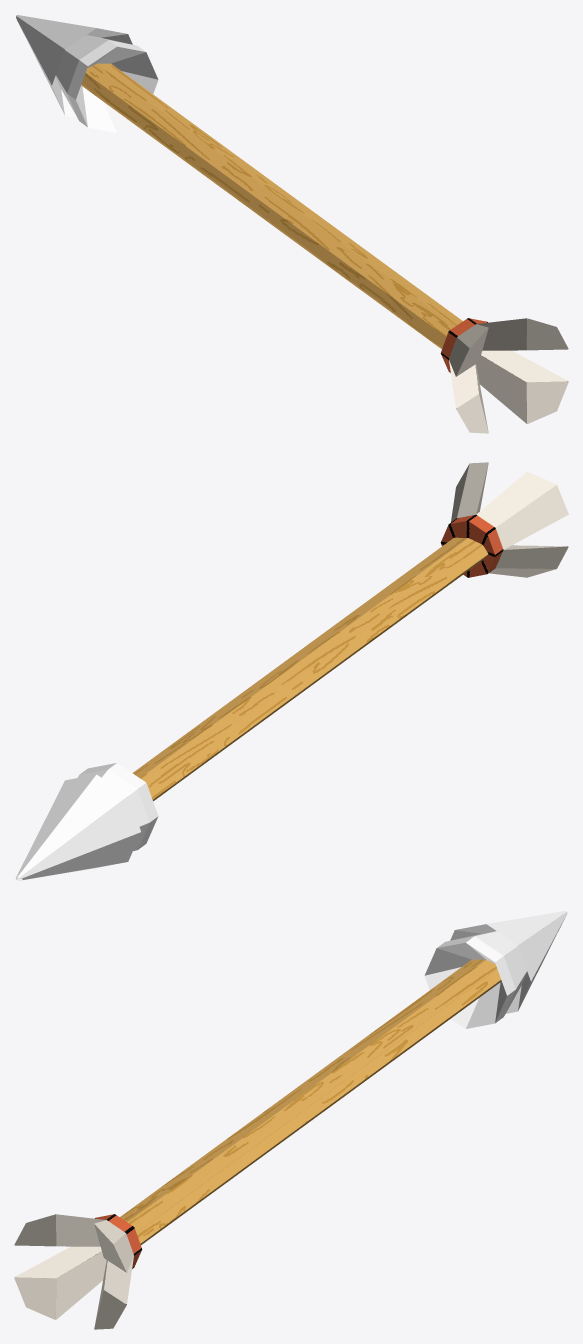
The model's file is arrow.fbx.
3 renders of one model, top to bottom at view 1: azimuth 30°, elevation 25°; view 2: azimuth 150°, elevation 25°; view 3: azimuth 330°, elevation 25°, orthographic.
Visible parts, largest first — view 1: Cylinder; view 2: Cylinder; view 3: Cylinder.
Boxes of the visible parts, bbox=[...] form: Cylinder: bbox=[16, 15, 568, 433]; Cylinder: bbox=[15, 462, 568, 880]; Cylinder: bbox=[14, 911, 567, 1329].
Size of the model in its own units: 59.29 by 53.19 by 454.
Materials: 1 (1 with a texture image).
